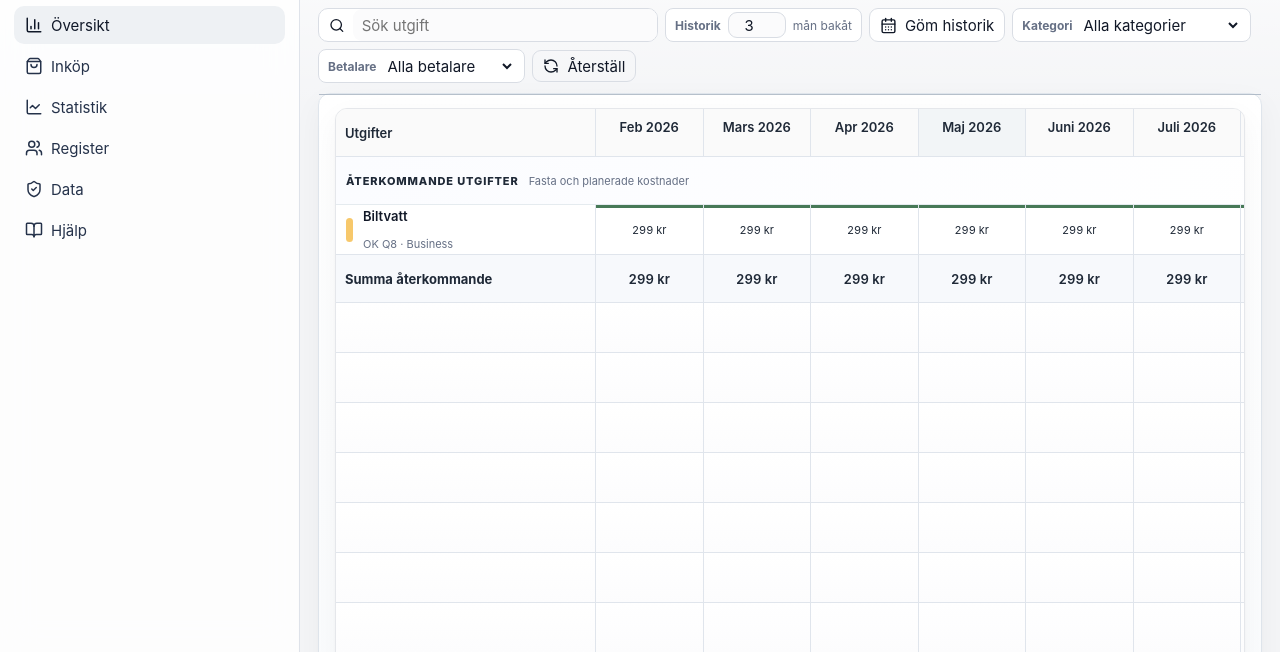
Test case: App › kan rensa all data och borja om utan planbok
Click the button "Data": x=67, y=189 top-left (14, 170), bottom-right (285, 208)
(page scrolled)
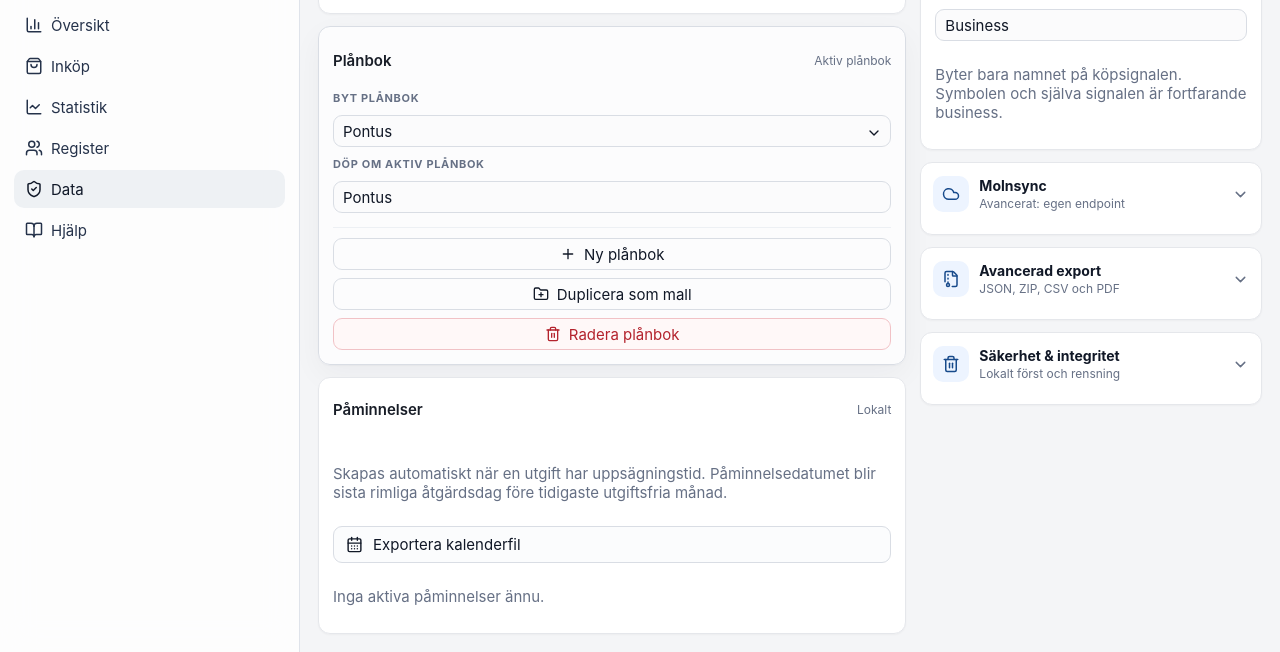
Click the text "Säkerhet & integritet": x=1050, y=356 top-left (979, 347), bottom-right (1120, 364)
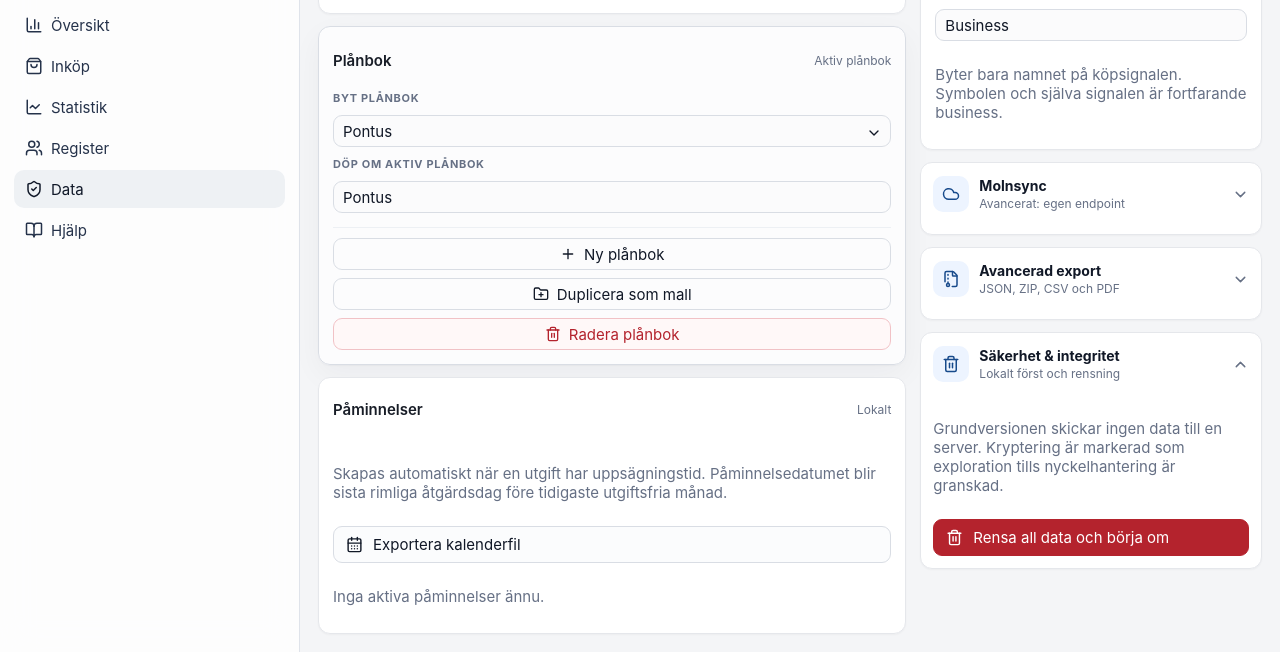
Click the button "Rensa all data och börja om": x=1091, y=538 top-left (933, 519), bottom-right (1249, 556)
(page scrolled)
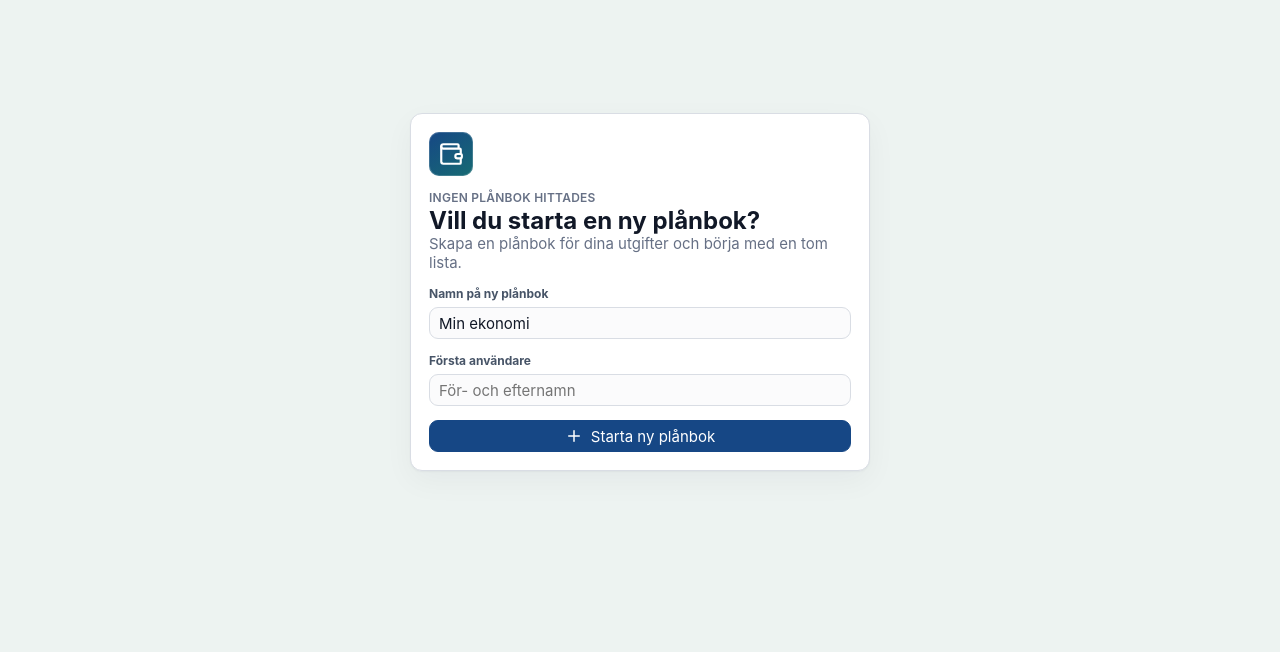
Expected: the heading "Vill du starta en ny plånbok?" is shown, top-left (429, 206), bottom-right (760, 235)
